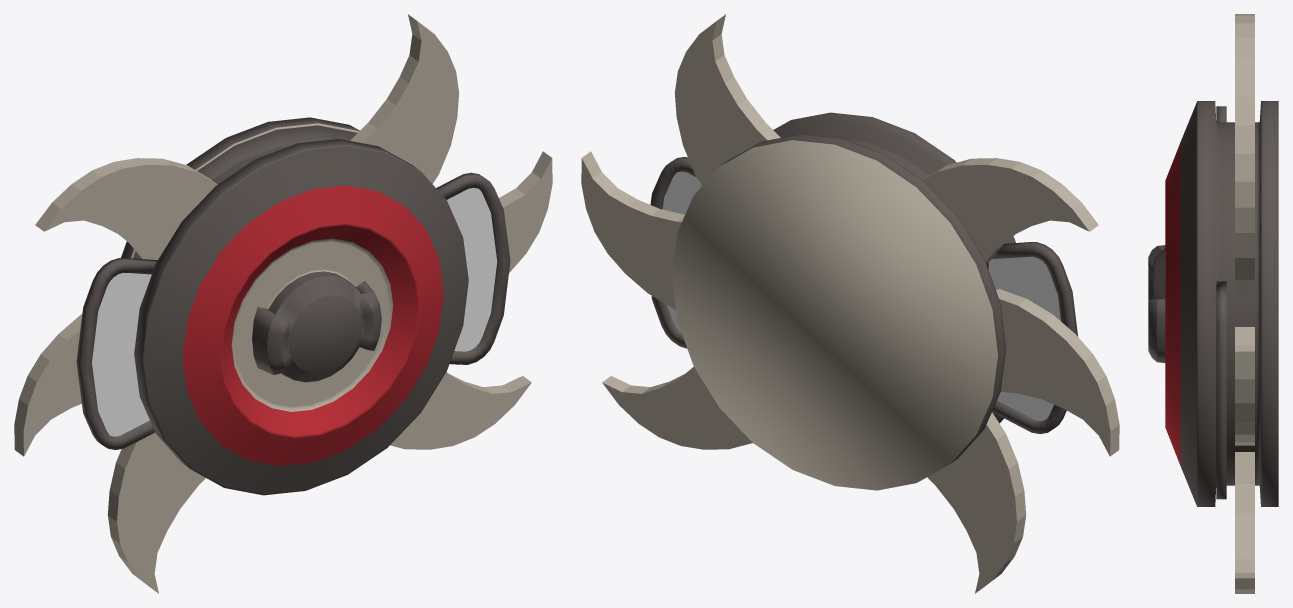
Rendered from Saw_4.fbx.
3 views of the same model, side by side, from view 1: azimuth 30°, elevation 25°; view 2: azimuth 150°, elevation 25°; view 3: azimuth 270°, elevation 25° (orthographic). The views are drawn at different scales.
Visible parts, largest first — view 1: Cylinder.005, Cylinder.053, Cylinder.049, Cylinder.051, Cylinder.052, Cylinder.050, Cylinder.048; view 2: Cylinder.005, Cylinder.050, Cylinder.053, Cylinder.051, Cylinder.049, Cylinder.048, Cylinder.052; view 3: Cylinder.005, Cylinder.049, Cylinder.052, Cylinder.048, Cylinder.053.
Part boxes in pixels (left/top/right/bottom): Cylinder.005: left=76, top=117, right=510, bottom=495; Cylinder.053: left=35, top=158, right=217, bottom=259; Cylinder.049: left=350, top=14, right=459, bottom=183; Cylinder.051: left=107, top=432, right=205, bottom=593; Cylinder.052: left=390, top=372, right=531, bottom=449; Cylinder.050: left=14, top=314, right=82, bottom=456; Cylinder.048: left=499, top=151, right=552, bottom=272; Cylinder.005: left=650, top=112, right=1077, bottom=490; Cylinder.050: left=996, top=289, right=1119, bottom=456; Cylinder.053: left=923, top=158, right=1098, bottom=263; Cylinder.051: left=927, top=412, right=1026, bottom=593; Cylinder.049: left=674, top=14, right=780, bottom=185; Cylinder.048: left=581, top=151, right=684, bottom=309; Cylinder.052: left=602, top=367, right=752, bottom=449; Cylinder.005: left=1148, top=101, right=1278, bottom=506; Cylinder.049: left=1235, top=96, right=1254, bottom=295; Cylinder.052: left=1235, top=452, right=1254, bottom=593; Cylinder.048: left=1235, top=327, right=1254, bottom=445; Cylinder.053: left=1235, top=14, right=1254, bottom=96.
Size of the model in its own units: 0.4865 by 0.4483 by 0.0961.
2 materials, 1 textured.
